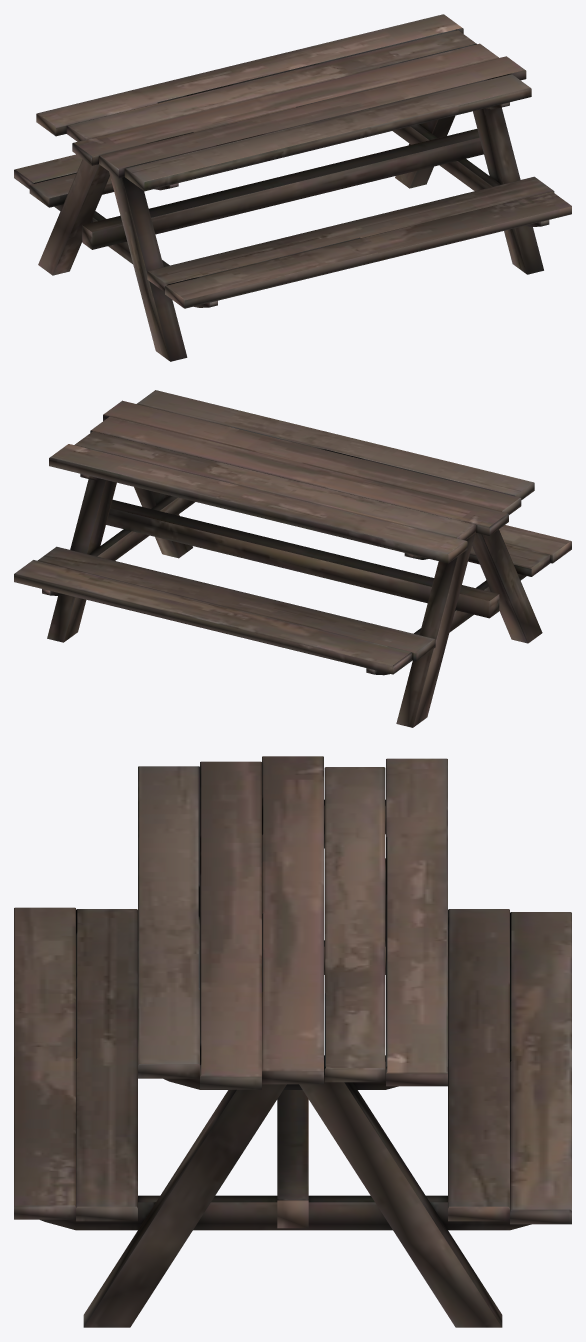
3 renders of one model, top to bottom at view 1: azimuth 30°, elevation 25°; view 2: azimuth 150°, elevation 25°; view 3: azimuth 270°, elevation 25°, orthographic. The views are drawn at different scales.
Parts seen in each view (by area): view 1: body0_model0_lod0_mesh0; view 2: body0_model0_lod0_mesh0; view 3: body0_model0_lod0_mesh0.
Part boxes in pixels (x1,y1,x2,y2): body0_model0_lod0_mesh0: (14, 14, 571, 361); body0_model0_lod0_mesh0: (14, 390, 571, 727); body0_model0_lod0_mesh0: (14, 756, 571, 1327).
Size of the model in its own units: 122 by 47.5 by 90.
Materials: 1 (1 with a texture image).
